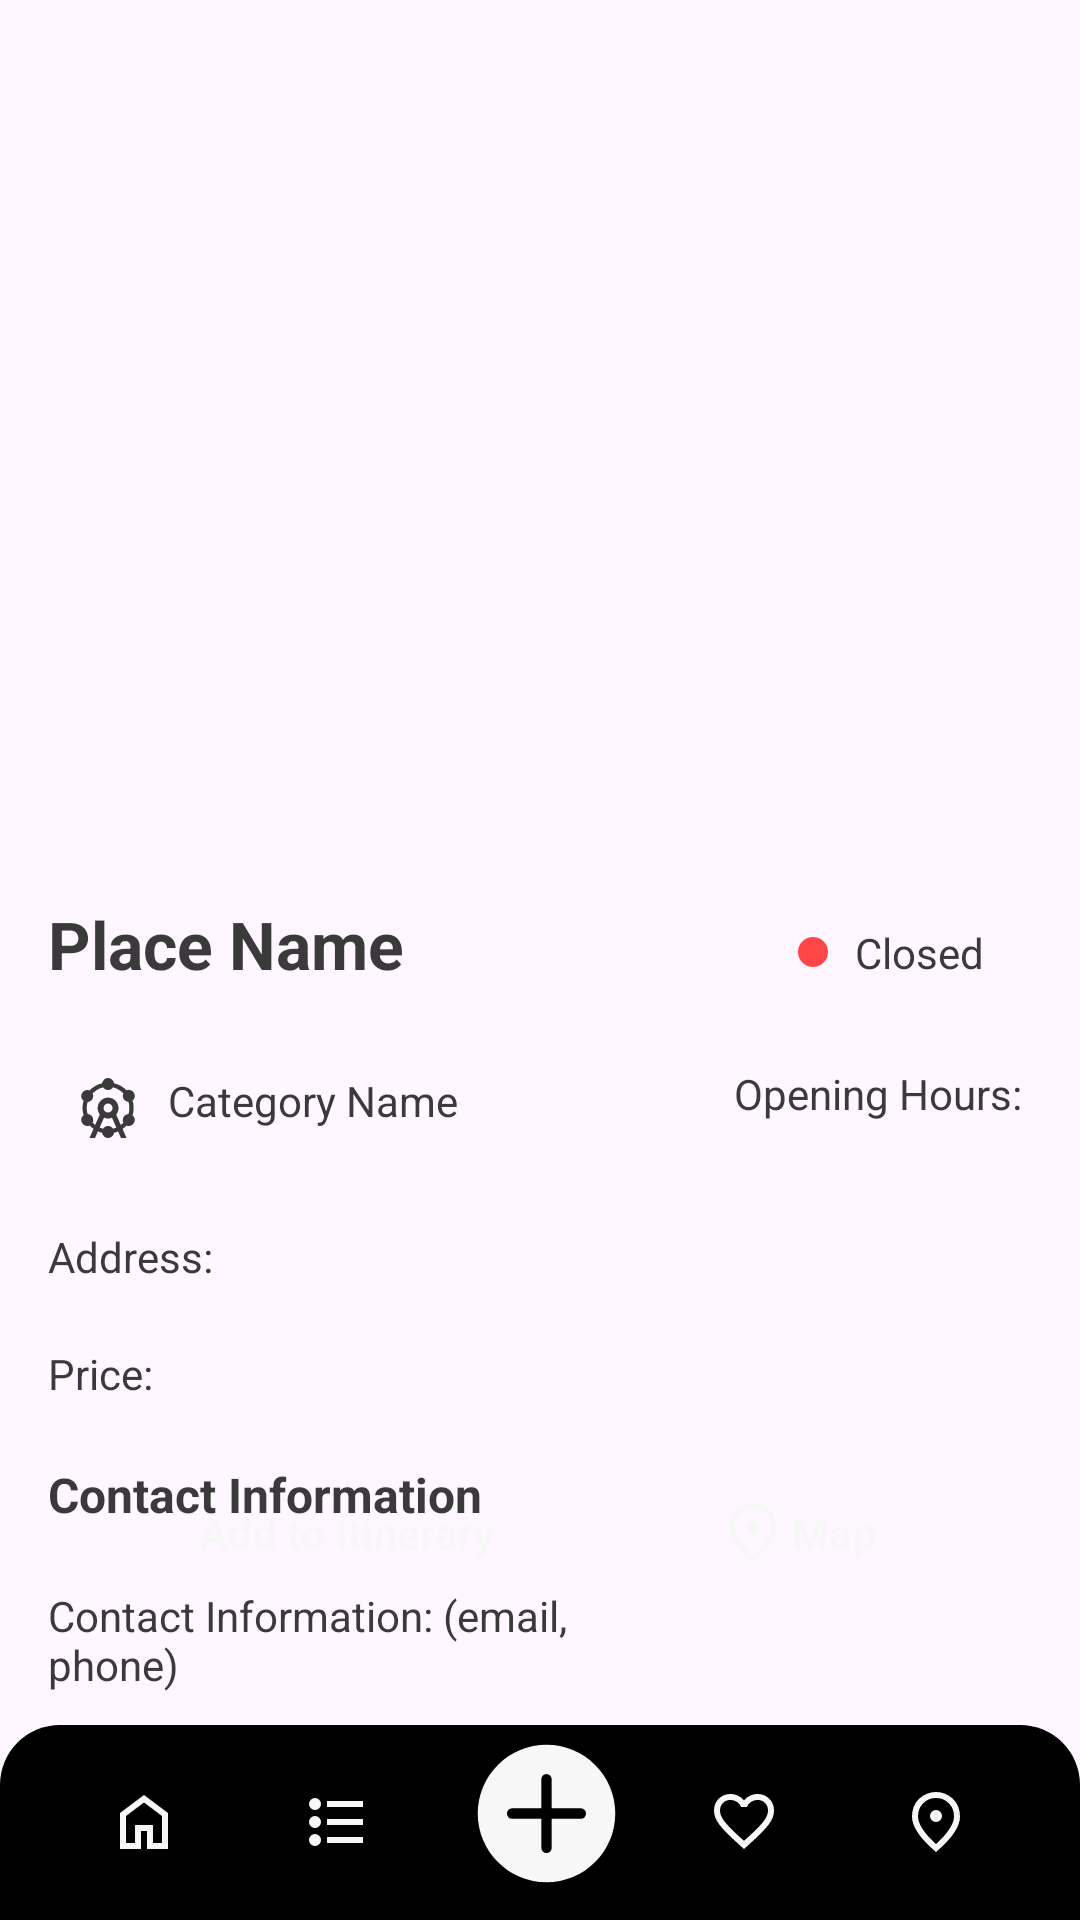

Screen size 1080 x 1920. Icon name, then its center in pixels as (x=x, y=y):
Favorites: (x=744, y=1821)
Home: (x=144, y=1822)
Itineraries: (x=336, y=1822)
